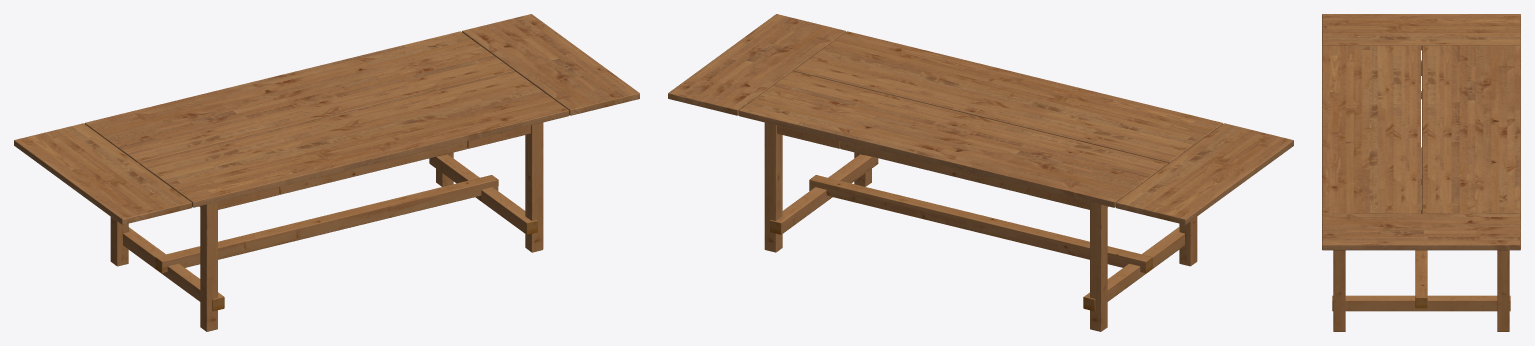
3 views of the same model, side by side, from view 1: azimuth 30°, elevation 25°; view 2: azimuth 150°, elevation 25°; view 3: azimuth 270°, elevation 25° (orthographic). The views are drawn at different scales.
Visible parts, largest first — view 1: Mesh_0; view 2: Mesh_0; view 3: Mesh_0.
Boxes of the visible parts, x1,y1,x2,y2 form: Mesh_0: [14, 14, 639, 331]; Mesh_0: [668, 14, 1293, 331]; Mesh_0: [1322, 14, 1520, 331].
Bounding box in the file's own units: 2.89 × 0.7471 × 1.05.
1 material, 1 textured.
